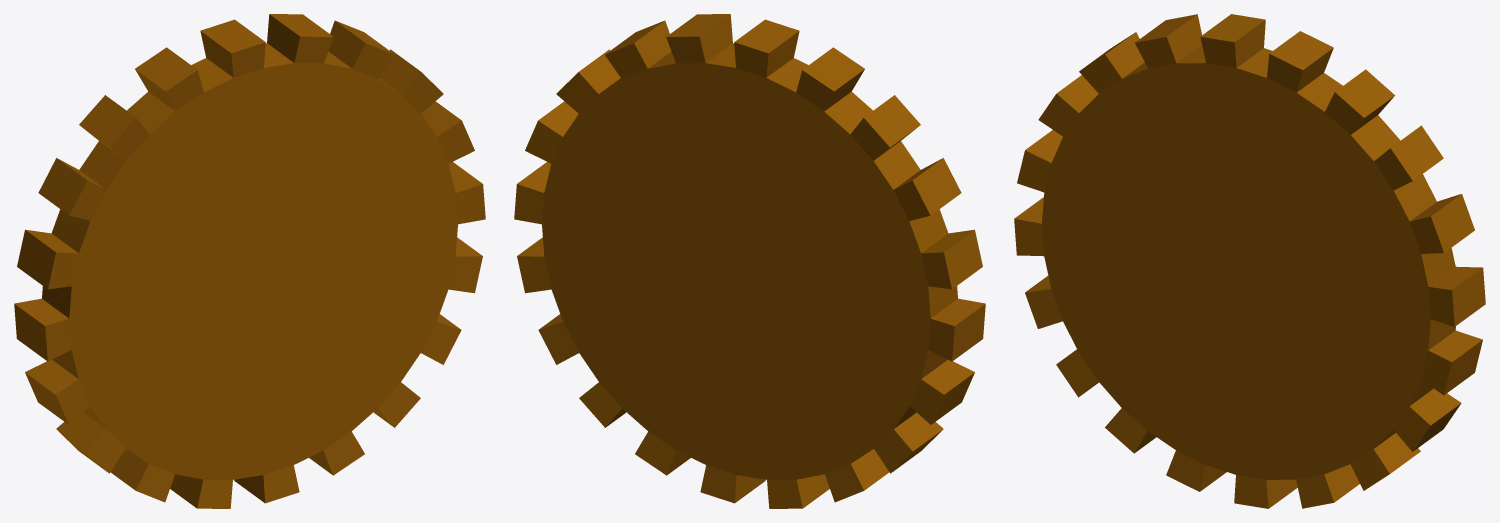
Rendered from gear.fbx.
3 renders of one model, left to right at view 1: azimuth 30°, elevation 25°; view 2: azimuth 150°, elevation 25°; view 3: azimuth 330°, elevation 25°, orthographic.
Parts seen in each view (by area): view 1: pCylinder1; view 2: pCylinder1; view 3: pCylinder1.
Boxes of the visible parts, bbox=[...] form: pCylinder1: bbox=[14, 14, 485, 508]; pCylinder1: bbox=[514, 14, 985, 508]; pCylinder1: bbox=[1014, 14, 1485, 508].
Bounding box in the file's own units: 5.69 × 5.69 × 0.6937.
